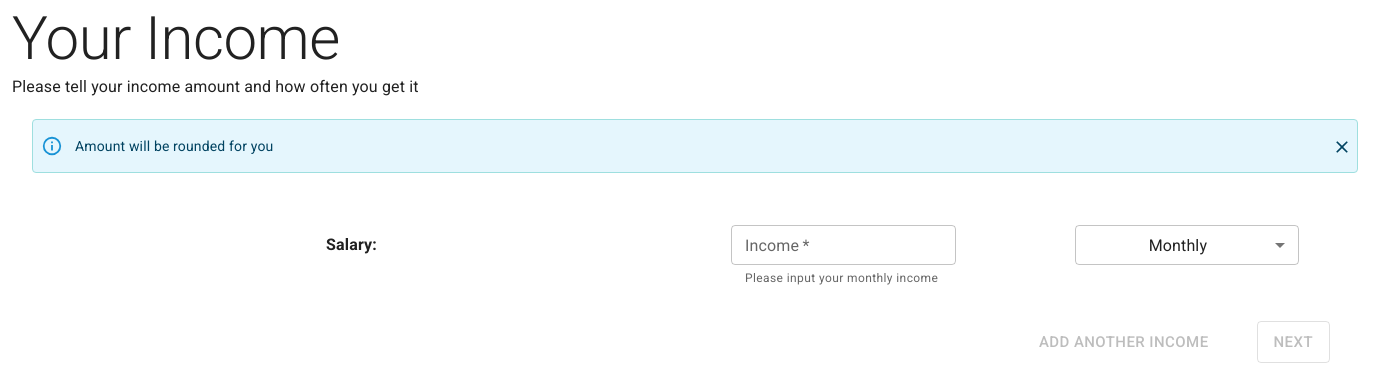
it: incomeInput component › should update the income value and enable button
Expected: the button "Add another income" is disabled, [1023,321,1225,363]
Expected: the button "Next" is disabled, [1256,321,1330,363]
Type "1000" into the number field labelled "Income *" at point(843, 245), box [731,225,956,265]
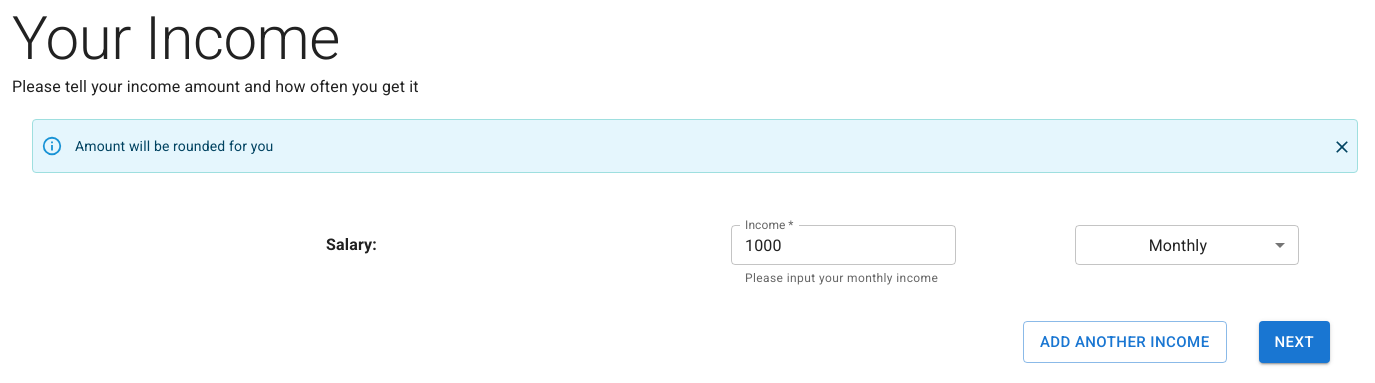
Now the button "Add another income" is enabled, box [1023,321,1227,363]
Now the button "Next" is enabled, box [1258,321,1330,363]
